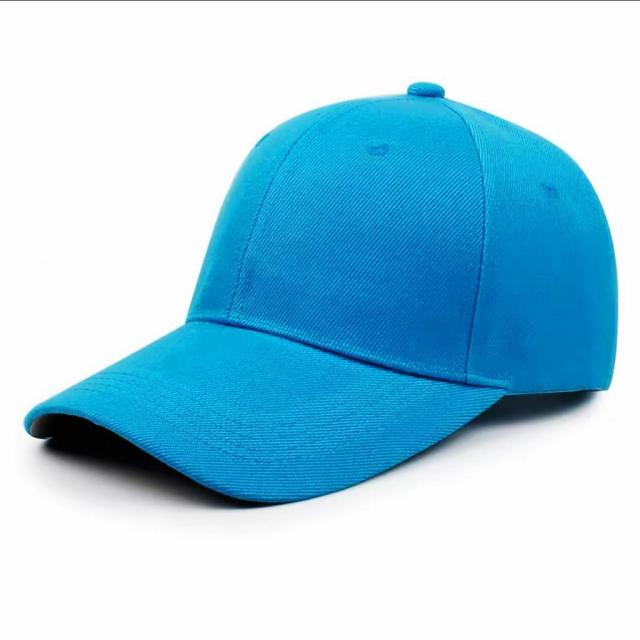mask: (26, 71, 626, 509)
